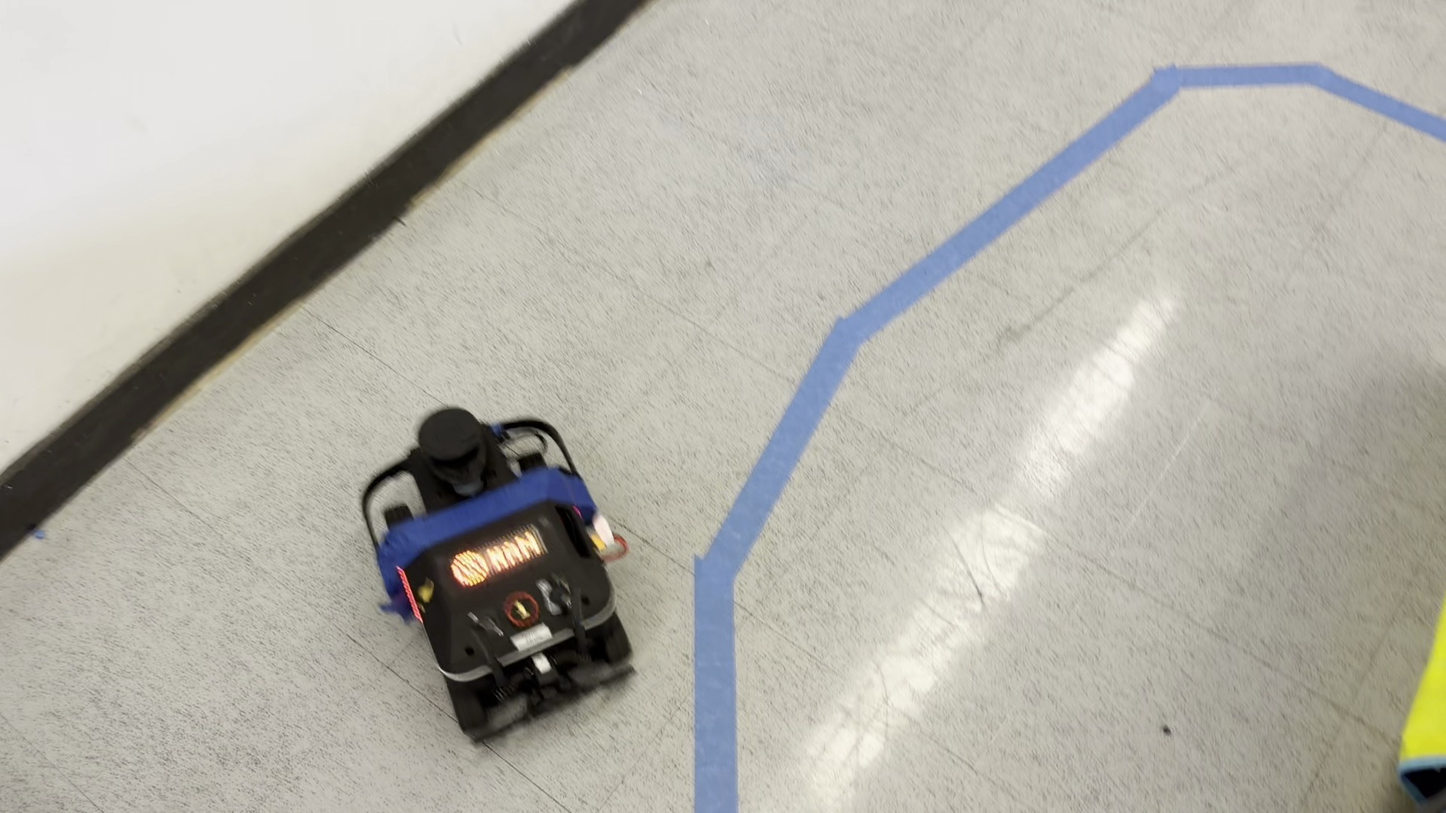racecar: (367, 412, 636, 742)
